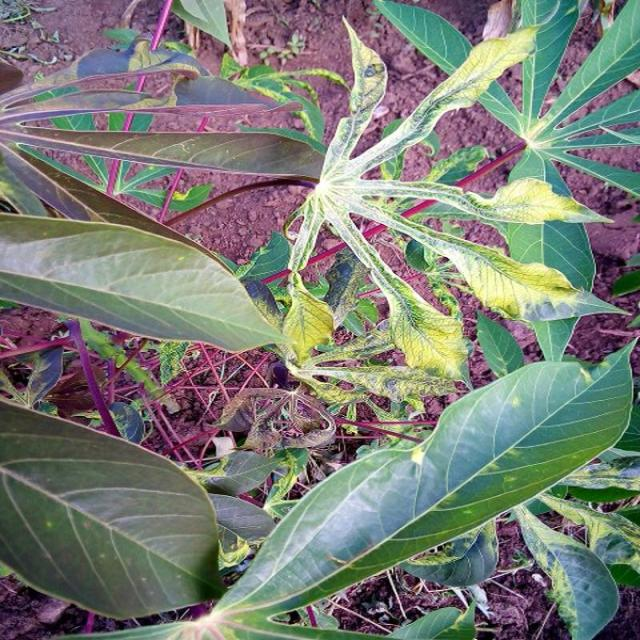cassava leaf: (2, 2, 638, 635), (209, 336, 637, 635), (1, 398, 222, 621), (2, 210, 292, 354)
